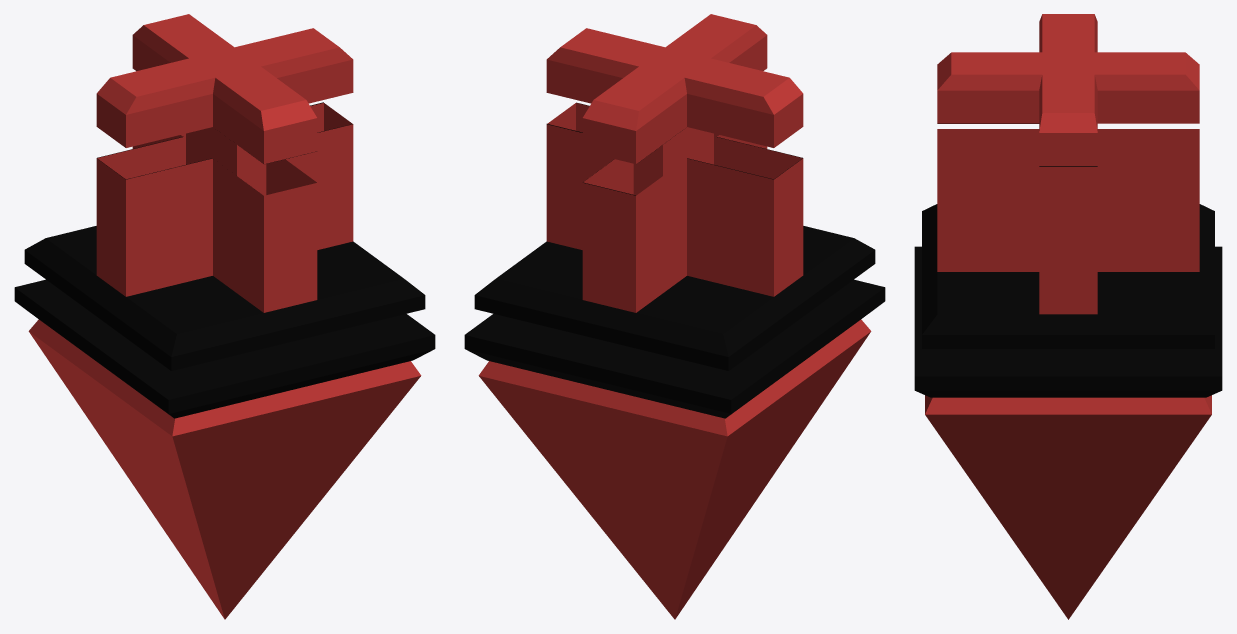
The model's file is Wall_Tile_Cross.fbx.
3 views of the same model, side by side, from view 1: azimuth 30°, elevation 25°; view 2: azimuth 150°, elevation 25°; view 3: azimuth 270°, elevation 25° (orthographic).
Parts seen in each view (by area): view 1: Wall_tile_1; view 2: Wall_tile_1; view 3: Wall_tile_1.
Boxes of the visible parts, x1,y1,x2,y2 form: Wall_tile_1: (14, 14, 435, 619); Wall_tile_1: (464, 14, 885, 619); Wall_tile_1: (914, 14, 1222, 619).
Bounding box in the file's own units: 100 × 199 × 100.
